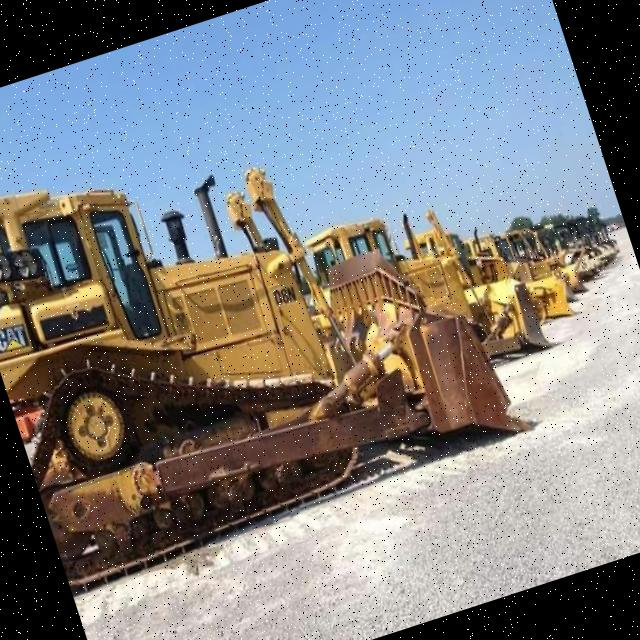Bulldozer: (0, 31, 557, 590)
